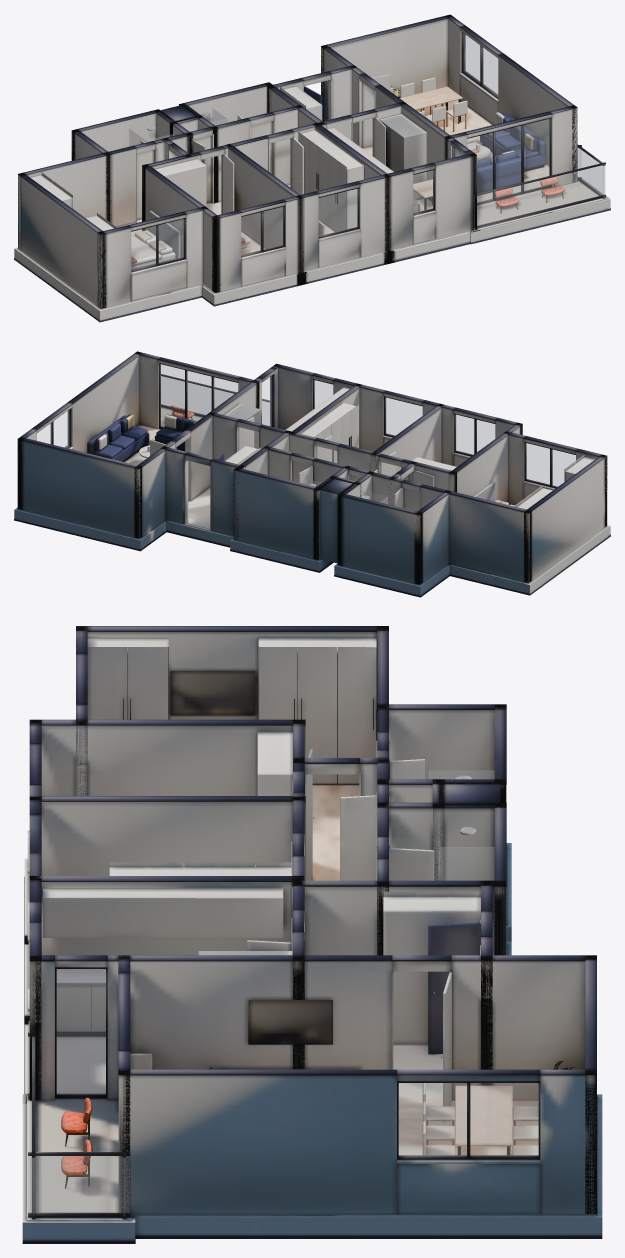
3 views of the same model, one above another, from view 1: azimuth 30°, elevation 25°; view 2: azimuth 150°, elevation 25°; view 3: azimuth 270°, elevation 25° (orthographic). The views are drawn at different scales.
Parts seen in each view (by area): view 1: plan, glass5_m, railg2_m, glass0_m, glass1_m, glass2_m, glass4_m, glass3_m, railg5_m; view 2: plan, glass5_m, railg2_m, glass0_m, glass1_m, glass2_m, glass4_m, glass6_m, glass3_m; view 3: plan, glass4_m, glass6_m, railg5_m, sg.002_m.
Part boxes in pixels (x1,y1,x2,y2): plan: [14, 14, 610, 322]; glass5_m: [467, 119, 549, 202]; railg2_m: [477, 165, 605, 225]; glass0_m: [131, 219, 183, 269]; glass1_m: [241, 207, 283, 255]; glass2_m: [319, 189, 357, 236]; glass4_m: [463, 33, 497, 95]; glass3_m: [413, 170, 433, 213]; railg5_m: [578, 148, 604, 195]; plan: [14, 351, 610, 597]; glass5_m: [160, 364, 237, 426]; railg2_m: [161, 376, 269, 425]; glass0_m: [526, 443, 575, 486]; glass1_m: [455, 415, 494, 454]; glass2_m: [385, 398, 422, 435]; glass4_m: [37, 410, 69, 447]; glass6_m: [262, 376, 271, 426]; glass3_m: [314, 380, 332, 408]; plan: [22, 626, 602, 1243]; glass4_m: [399, 1083, 538, 1155]; glass6_m: [57, 969, 105, 1094]; railg5_m: [28, 1156, 129, 1212]; sg.002_m: [439, 847, 494, 880].
Bounding box in the file's own units: 15.89 × 2.62 × 8.5.
2 materials, 1 textured.
